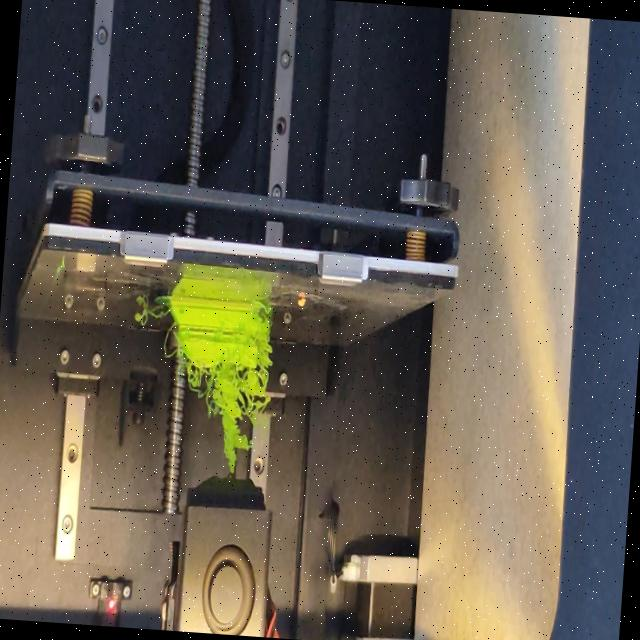spaghetti: (178, 356, 272, 475), (254, 304, 275, 367), (131, 301, 166, 323), (162, 318, 176, 362)
